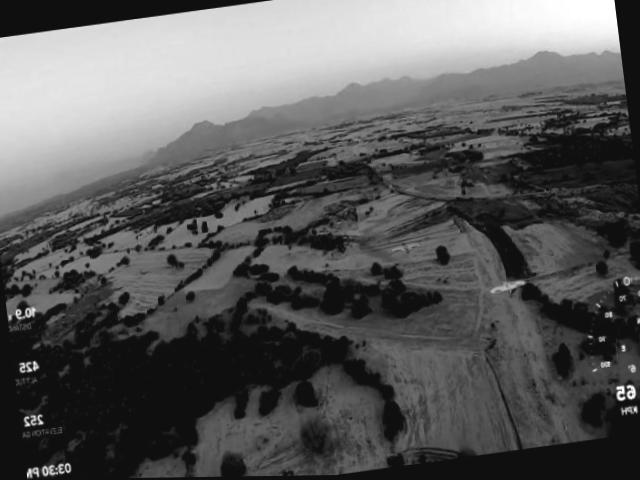hedef: (484, 275, 530, 303), (391, 237, 426, 260)
